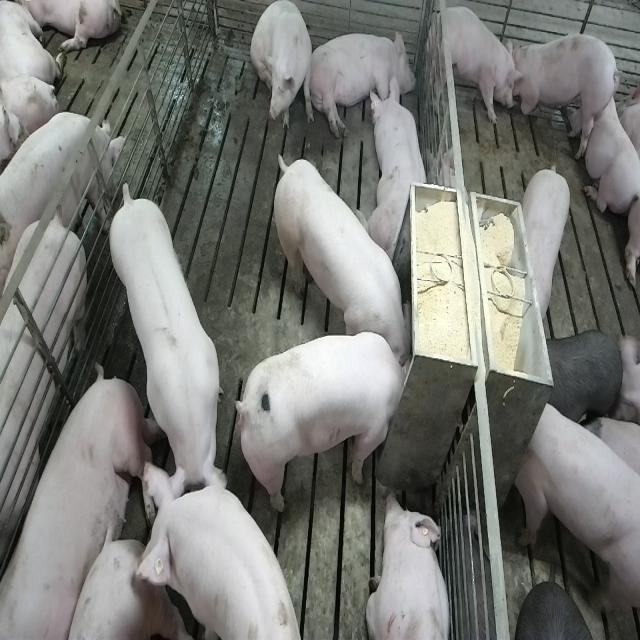Feeding: (244, 330, 418, 515), (269, 146, 411, 364)
Lateral_lying: (3, 365, 155, 640), (307, 27, 416, 139)
Sitting: (251, 2, 315, 140)
Standing: (103, 183, 224, 519), (0, 209, 89, 589), (129, 465, 299, 640), (515, 395, 638, 631), (0, 107, 122, 275), (510, 28, 618, 158), (432, 5, 520, 132), (521, 160, 573, 325), (544, 324, 623, 424)
Sternal_lying: (366, 489, 452, 640), (362, 76, 431, 260), (581, 79, 639, 213)
